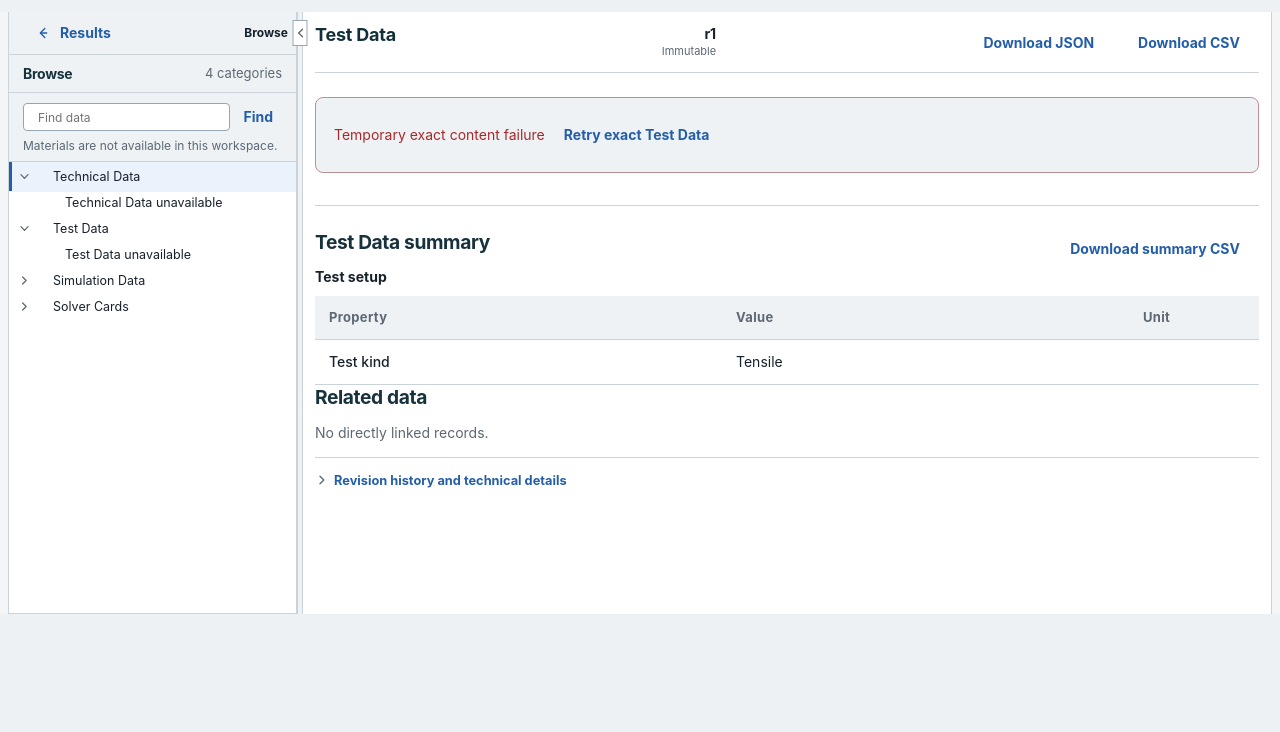
ExactRecordDatasheetPage › loads only the exact bound canonical Test Data revision and keeps its summary through retry
Expected: the heading "Test Data" is shown, [315,24,396,46]
Expected: the text "Temporary exact content failure" is shown, [334,126,545,143]
Click the button "Retry exact Test Data" at (637, 135), box [545,116,728,154]
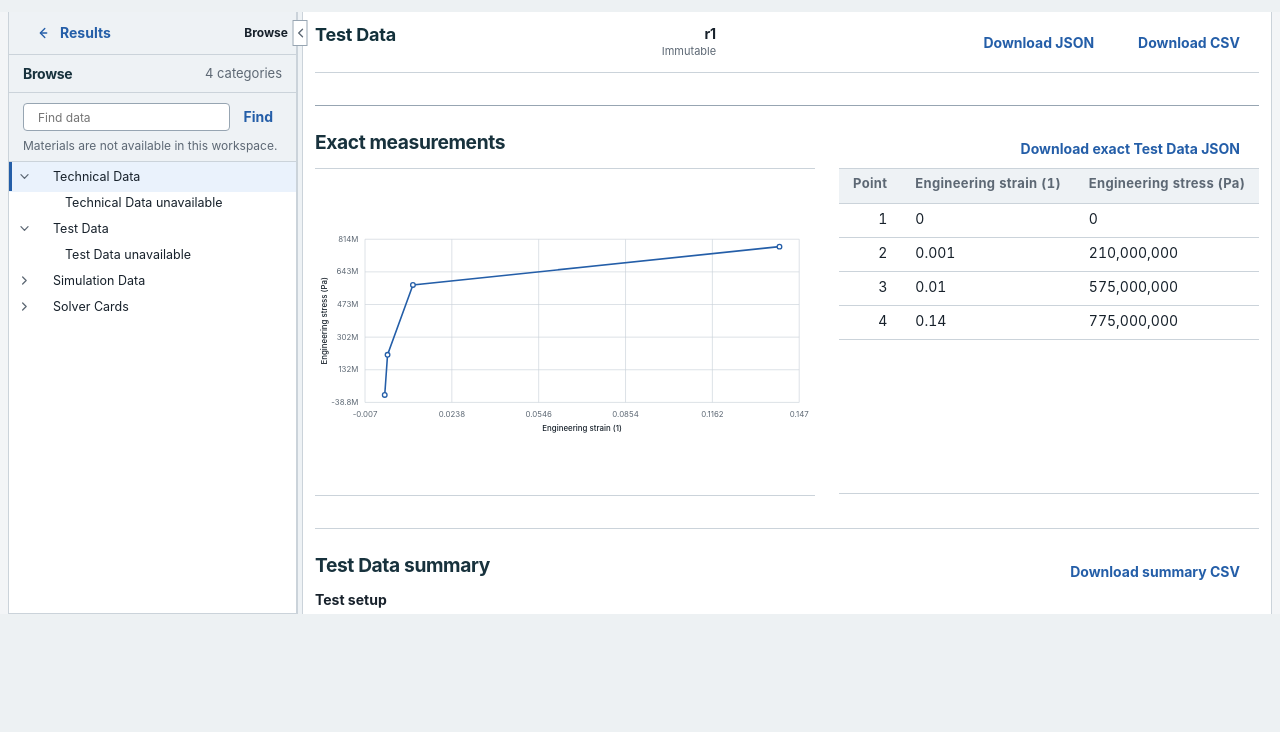
Result: the heading "Exact measurements" is shown at [315,130,505,154]
Result: the picture named "Engineering stress by Engineering strain exact Test Data curve" is shown at [315,169,815,495]
Result: the table named "Exact Test Data points" shows "Engineering strain (1)" at [839,169,1259,340]
